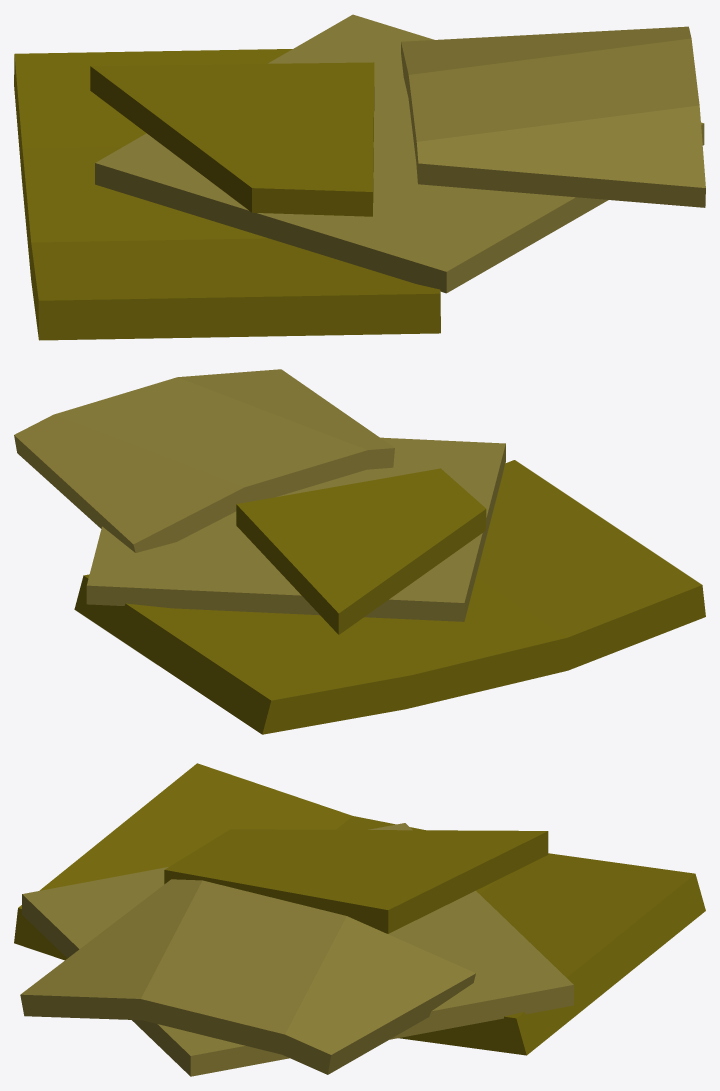
Rendered from KevlarModel.glb.
3 views of the same model, one above another, from view 1: azimuth 30°, elevation 25°; view 2: azimuth 150°, elevation 25°; view 3: azimuth 270°, elevation 25° (orthographic). The views are drawn at different scales.
Visible parts, largest first — view 1: KevlarSheets, KevlarSheet1, KevlarSheet2; view 2: KevlarSheets, KevlarSheet1, KevlarSheet2; view 3: KevlarSheets, KevlarSheet2, KevlarSheet1.
Boxes of the visible parts, box(x1,y1,x2,y2) form: KevlarSheets: box(14, 26, 705, 340); KevlarSheet1: box(95, 14, 704, 293); KevlarSheet2: box(90, 62, 374, 216); KevlarSheets: box(14, 369, 705, 734); KevlarSheet1: box(86, 437, 505, 621); KevlarSheet2: box(236, 468, 486, 634); KevlarSheets: box(14, 763, 705, 1074); KevlarSheet2: box(164, 829, 548, 933); KevlarSheet1: box(22, 823, 573, 1076).
Size of the model in its own units: 2.66 by 0.4262 by 2.3.
